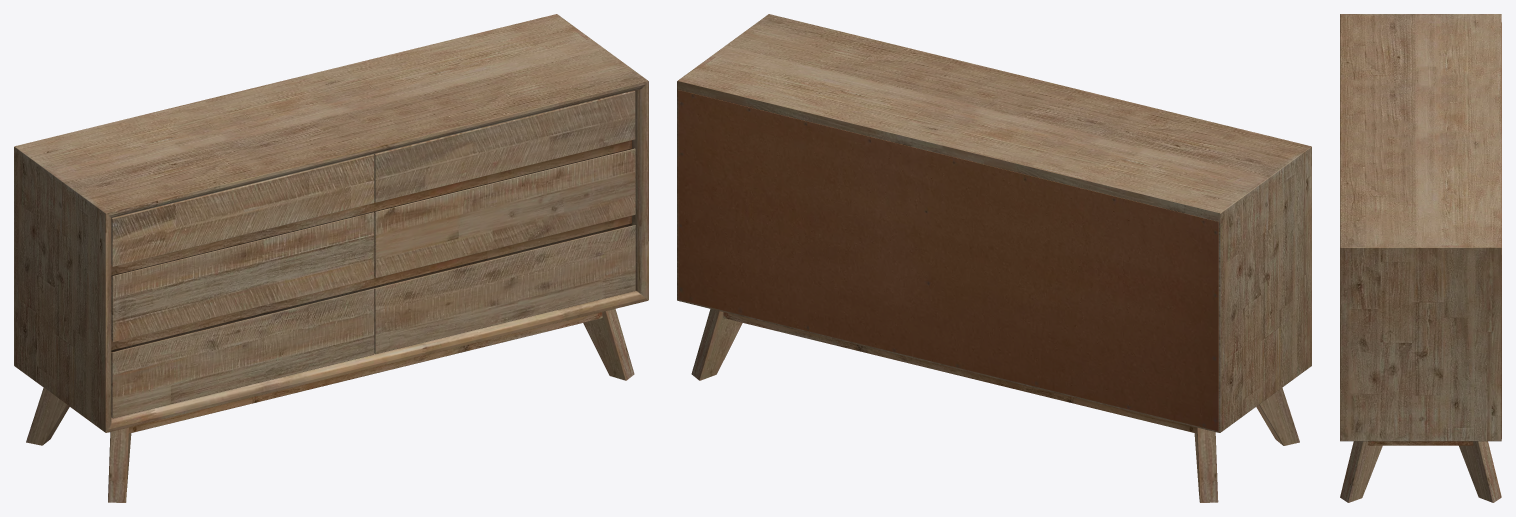
File: abo-B07HSNQW37.glb
The picture shows the model from 3 angles, left to right: view 1: azimuth 30°, elevation 25°; view 2: azimuth 150°, elevation 25°; view 3: azimuth 270°, elevation 25°; orthographic projection. The views are drawn at different scales.
Size of the model in its own units: 1.55 by 0.805 by 0.455.
1 material, 1 textured.
